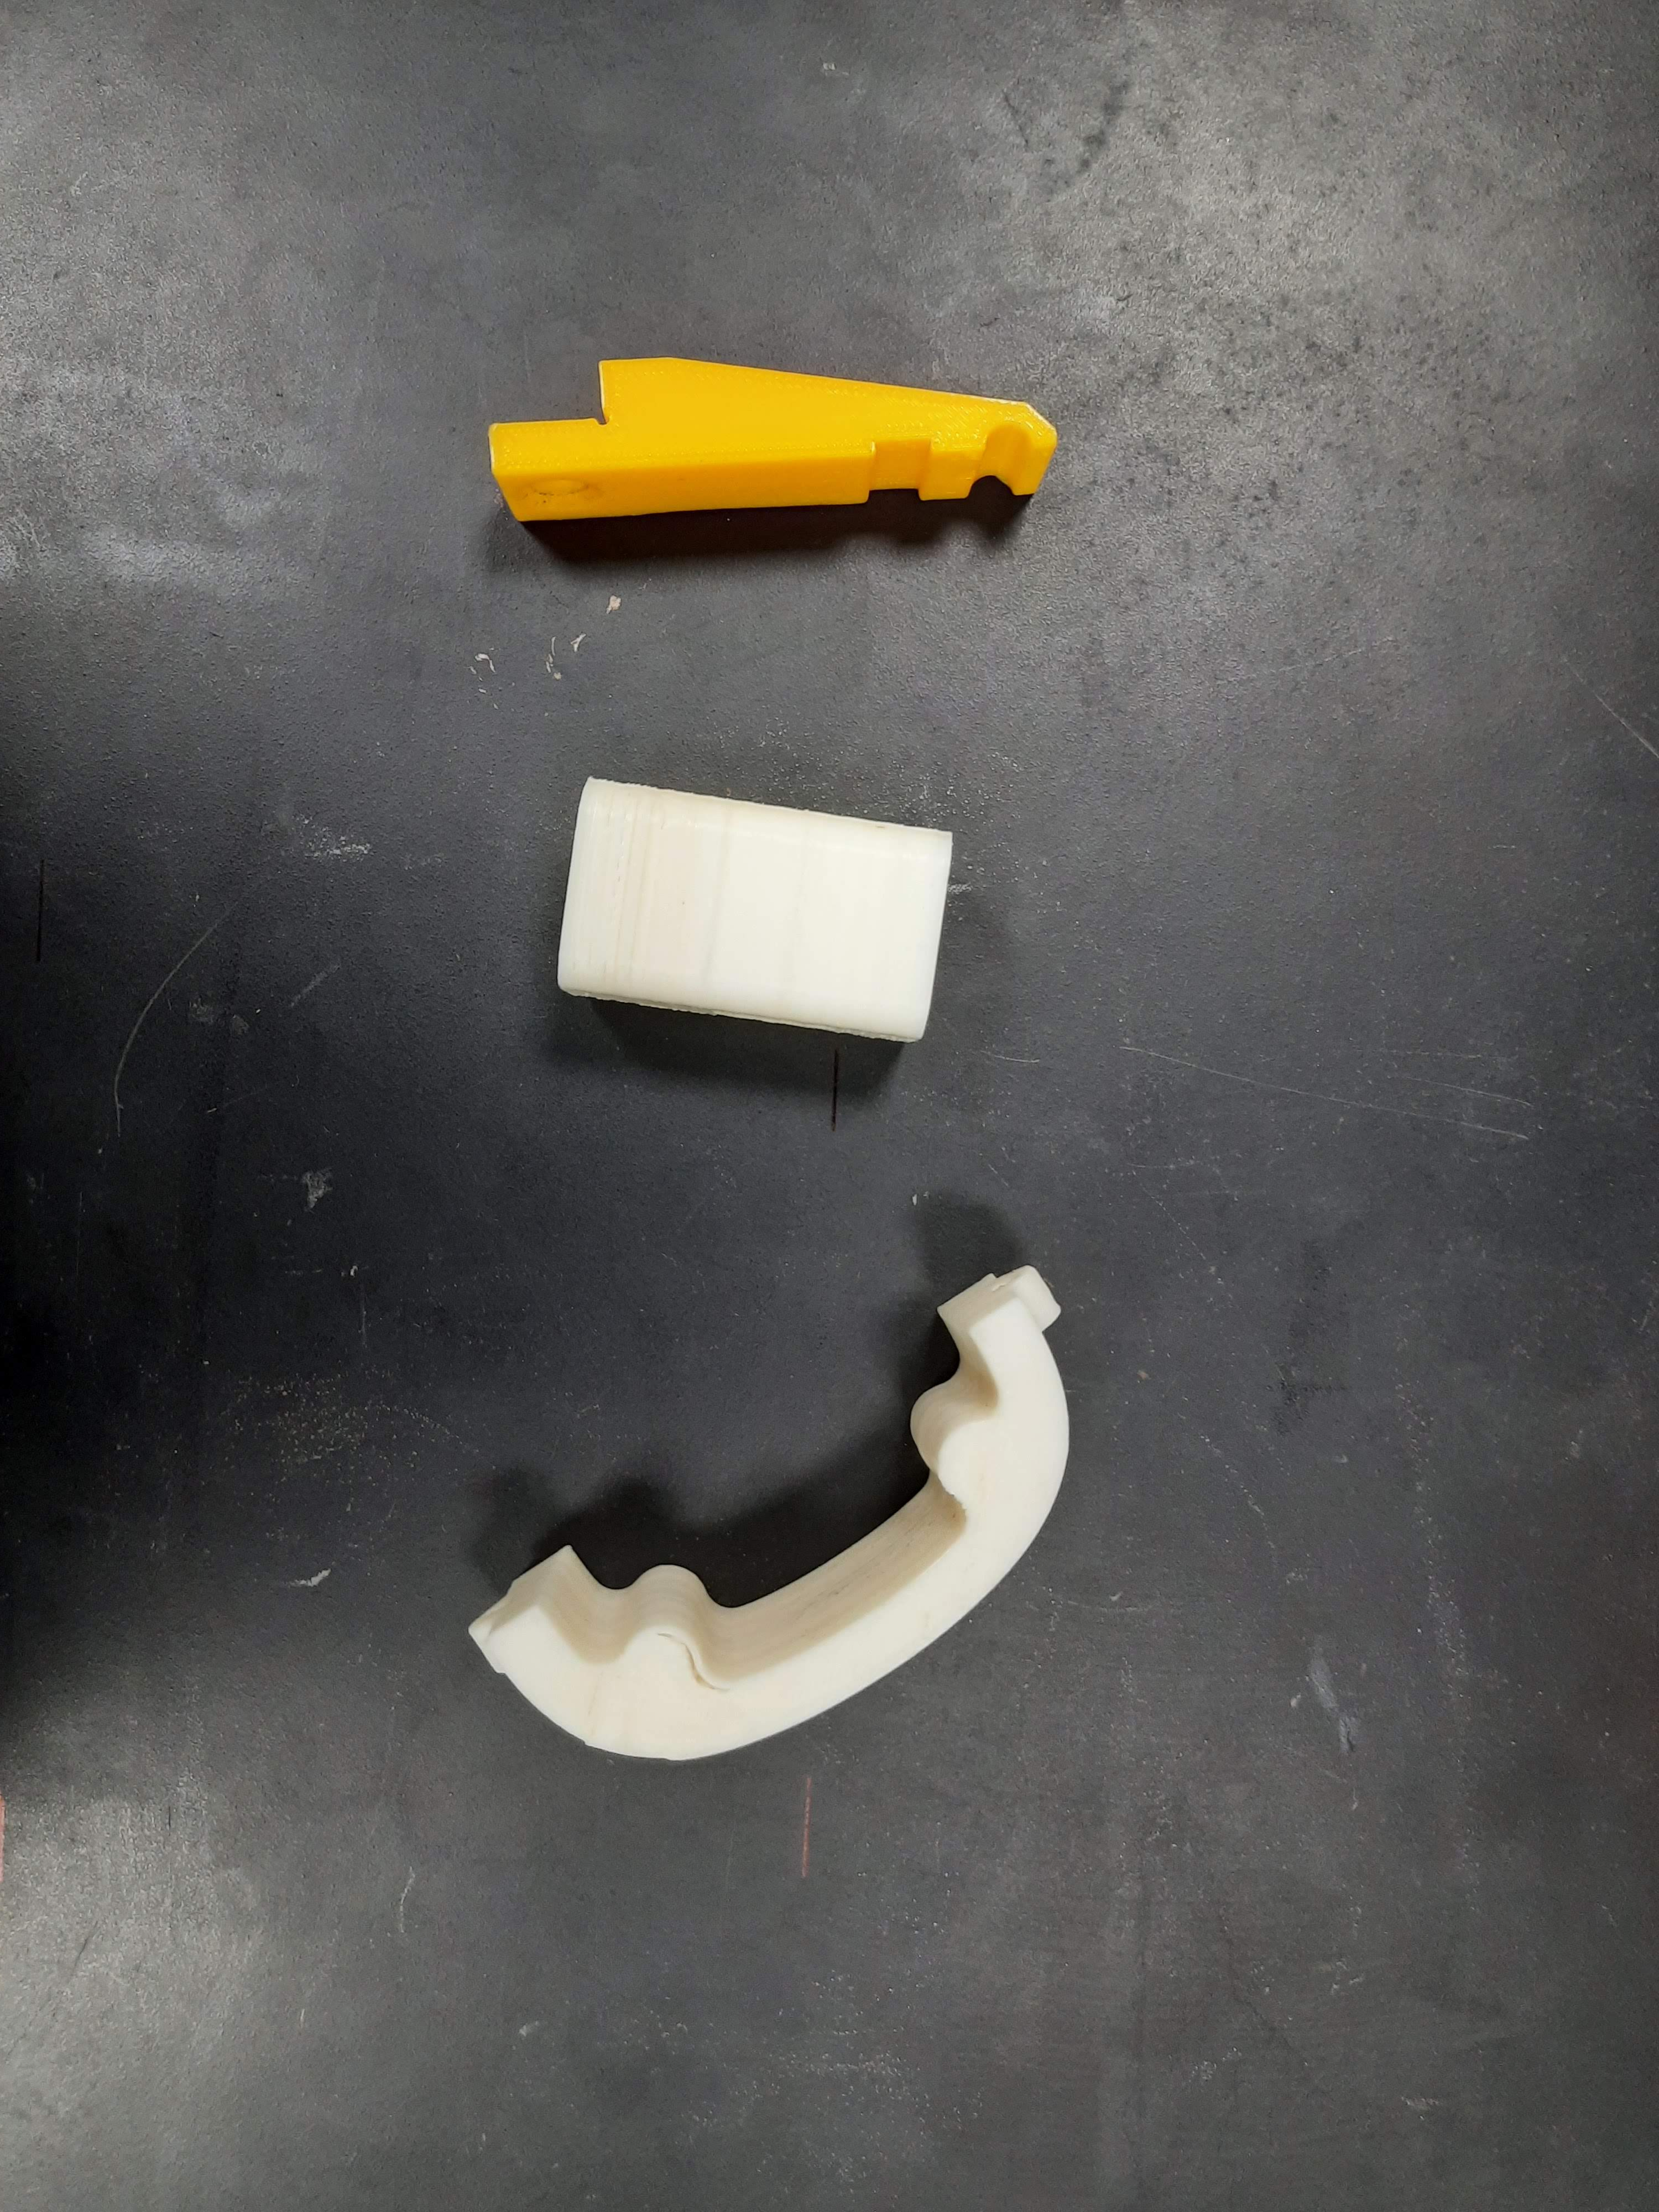ARC: (464, 1245, 1180, 1846)
CUBE: (552, 773, 951, 1035)
YELLOW: (481, 345, 1053, 512)
